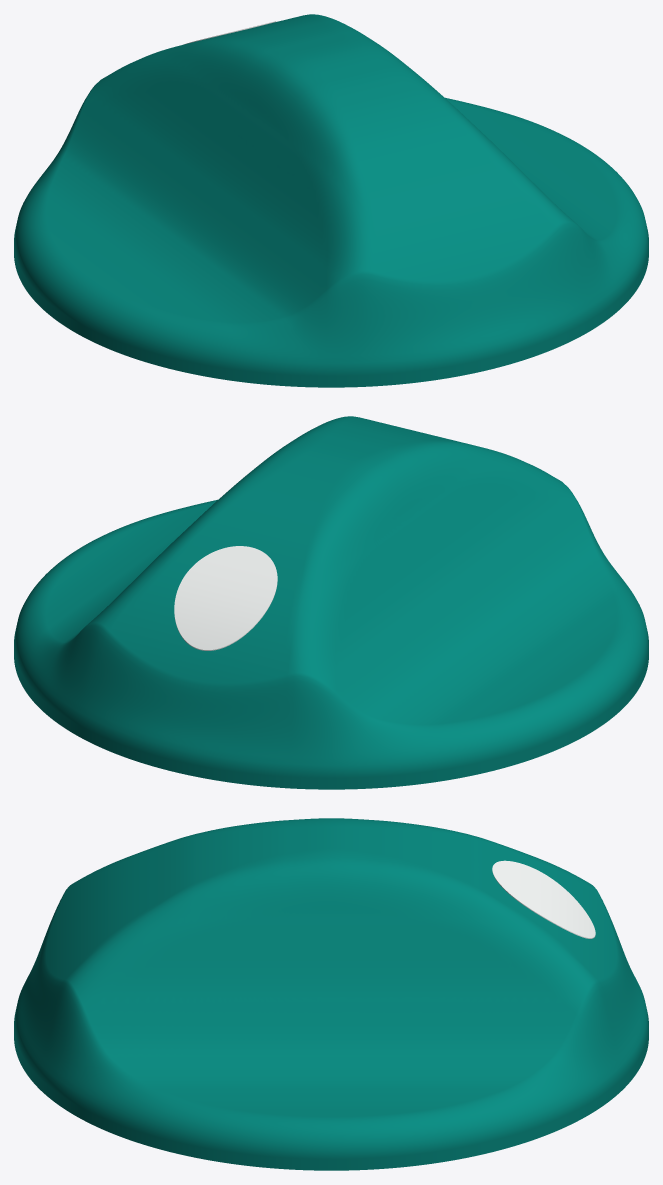
File: phoenix-knob.glb
3 views of the same model, one above another, from view 1: azimuth 30°, elevation 25°; view 2: azimuth 150°, elevation 25°; view 3: azimuth 270°, elevation 25° (orthographic).
Visible parts, largest first — view 1: KnobBody; view 2: KnobBody, WhiteMarker; view 3: KnobBody, WhiteMarker.
Boxes of the visible parts, box(x1,y1,x2,y2) form: KnobBody: box(14, 14, 648, 387); KnobBody: box(14, 416, 648, 789); WhiteMarker: box(174, 546, 277, 650); KnobBody: box(14, 818, 648, 1170); WhiteMarker: box(492, 860, 595, 938).
Bounding box in the file's own units: 0.04 × 0.0138 × 0.04.
